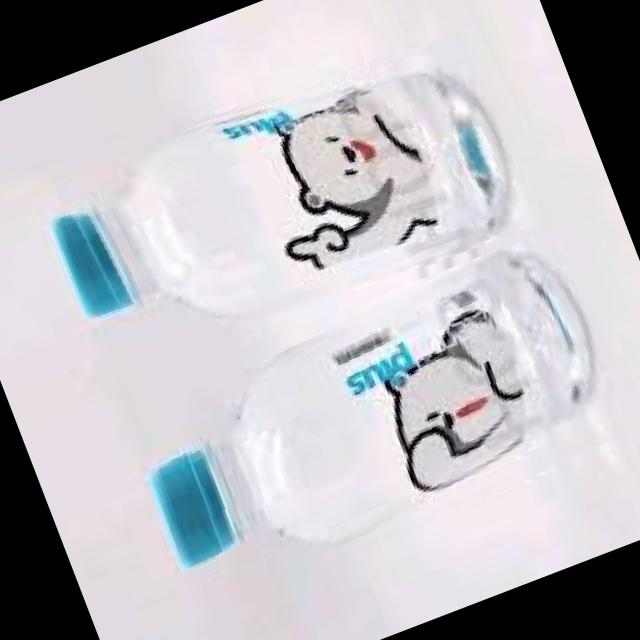plastic bottle: (120, 223, 640, 628), (50, 6, 571, 380)
